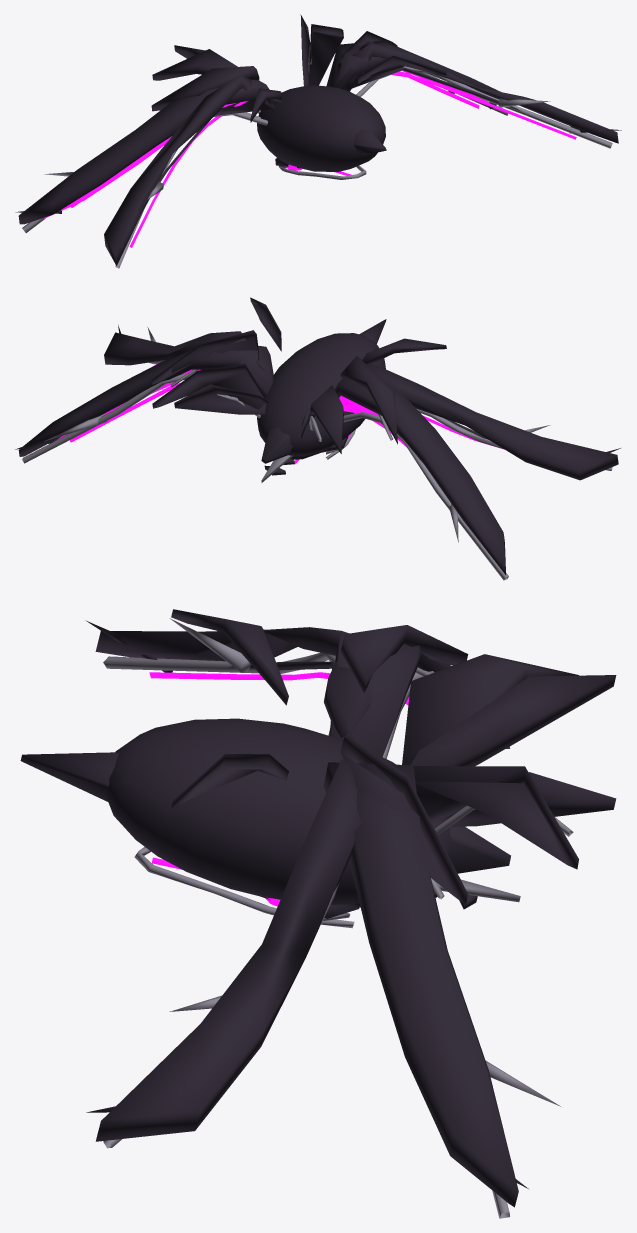
The model's file is DRONE_v1.glb.
3 views of the same model, one above another, from view 1: azimuth 30°, elevation 25°; view 2: azimuth 150°, elevation 25°; view 3: azimuth 270°, elevation 25° (orthographic). The views are drawn at different scales.
Visible parts, largest first — view 1: DRONE_v1; view 2: DRONE_v1; view 3: DRONE_v1.
Part boxes in pixels (x1=…): DRONE_v1: x1=15, y1=14, x2=621, y2=268; DRONE_v1: x1=15, y1=297, x2=620, y2=580; DRONE_v1: x1=20, y1=609, x2=616, y2=1218.
Bounding box in the file's own units: 0.76 × 0.2151 × 0.3882.
